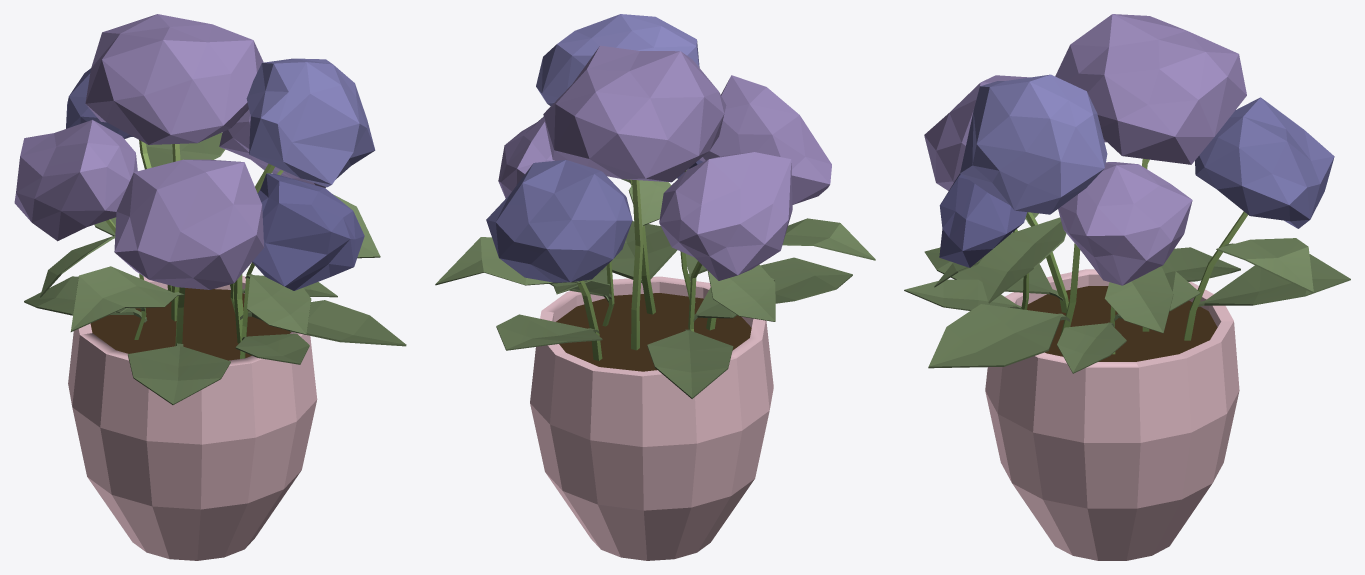
The model's file is Plant_18.fbx.
The picture shows the model from 3 angles, left to right: view 1: azimuth 30°, elevation 25°; view 2: azimuth 150°, elevation 25°; view 3: azimuth 270°, elevation 25°; orthographic projection. The views are drawn at different scales.
Visible parts, largest first — view 1: Plant_18; view 2: Plant_18; view 3: Plant_18.
Boxes of the visible parts, box(x1,y1,x2,y2) form: Plant_18: box(14, 14, 406, 560); Plant_18: box(435, 14, 875, 560); Plant_18: box(904, 14, 1350, 560).
Bounding box in the file's own units: 28.18 × 42.02 × 33.61.
